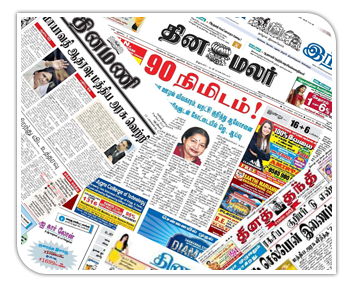news_paper: (91, 19, 328, 271), (19, 15, 183, 256)
